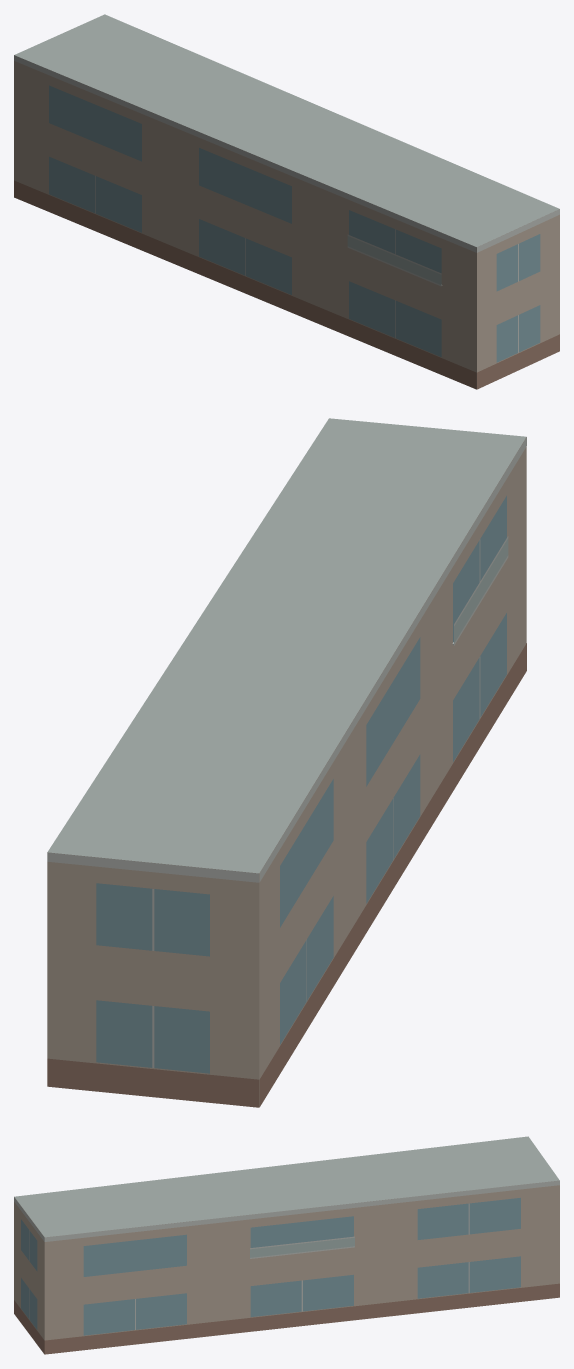
Rendered from survey-upis-32623679.glb.
3 views of the same model, one above another, from view 1: azimuth 30°, elevation 25°; view 2: azimuth 150°, elevation 25°; view 3: azimuth 270°, elevation 25° (orthographic). The views are drawn at different scales.
Parts seen in each view (by area): view 1: survey-upis-32623679.tmp; view 2: survey-upis-32623679.tmp; view 3: survey-upis-32623679.tmp.
Part boxes in pixels (x1,y1,x2,y2): survey-upis-32623679.tmp: [14, 14, 559, 389]; survey-upis-32623679.tmp: [47, 418, 526, 1107]; survey-upis-32623679.tmp: [14, 1136, 559, 1354].
Bounding box in the file's own units: 11.3 × 6.1 × 25.78.
